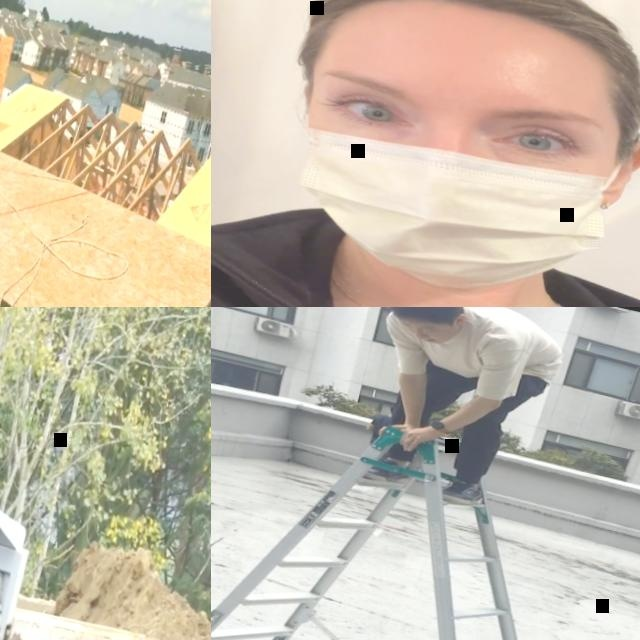Mask: (267, 66, 633, 307)
NO-Hardhat: (308, 0, 640, 98), (383, 307, 466, 329)
NO-Mask: (420, 321, 460, 348)
NO-Safety Vest: (211, 204, 640, 307), (410, 307, 565, 391)
Person: (211, 0, 640, 307), (345, 307, 572, 518)
machinery: (0, 479, 211, 640)
